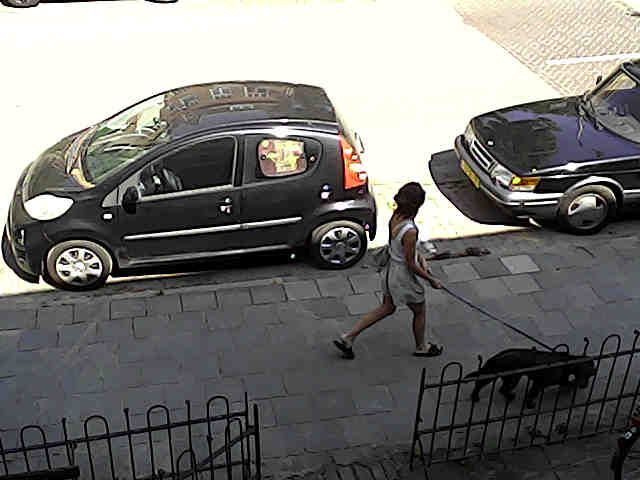male: (334, 182, 442, 357)
suv: (2, 82, 375, 289), (455, 61, 639, 233), (0, 0, 39, 7)
